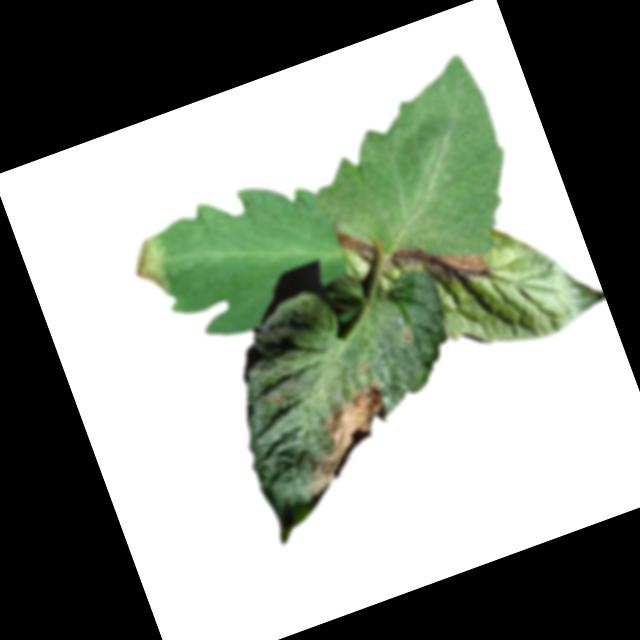Late_blight: (283, 380, 409, 498), (385, 222, 491, 303), (125, 235, 175, 303), (334, 218, 374, 263)
healthy: (286, 49, 535, 296)
